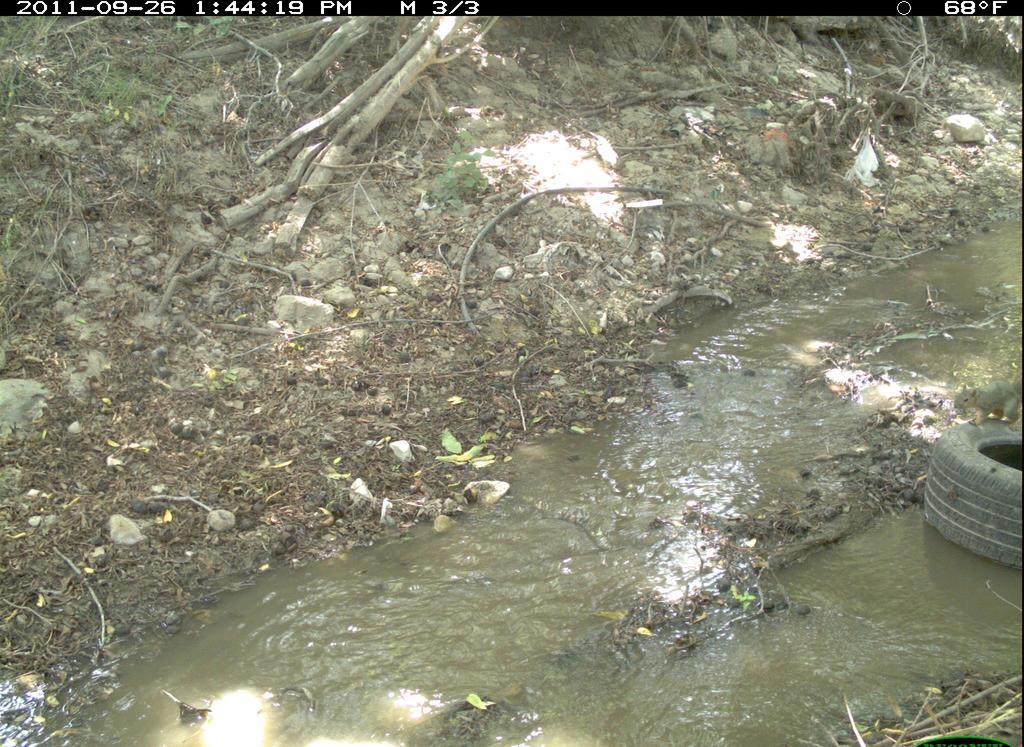squirrel: (952, 367, 1023, 436)
